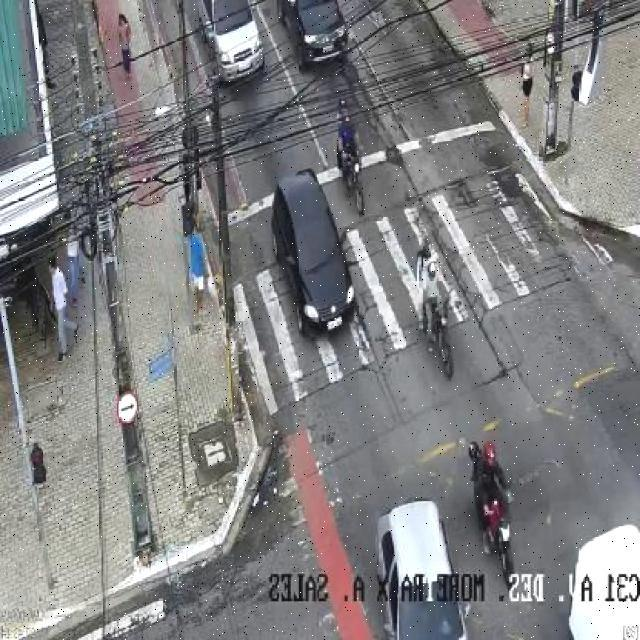Car: (271, 168, 355, 340), (373, 497, 473, 640), (195, 0, 267, 84), (277, 0, 351, 69)
Cycle: (481, 493, 516, 588), (425, 291, 457, 380), (339, 148, 368, 215)
